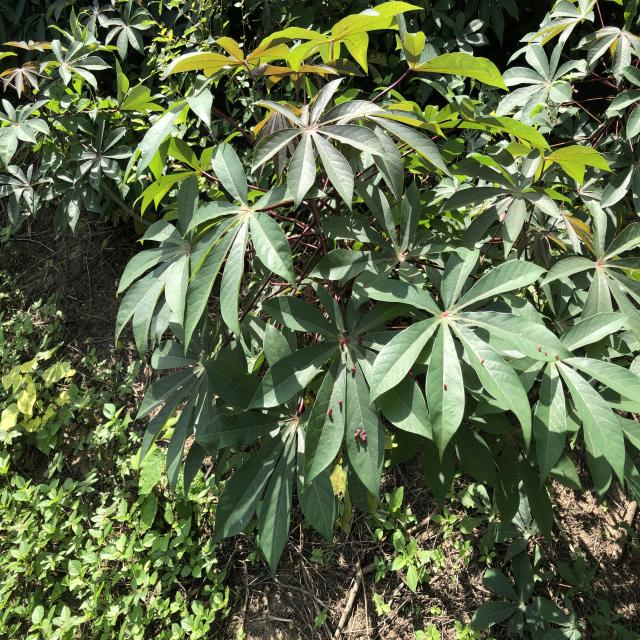Mosca: (528, 339, 566, 363), (349, 420, 376, 453), (323, 390, 346, 420), (343, 358, 363, 379), (434, 379, 451, 401), (332, 332, 348, 354), (352, 333, 371, 348), (471, 353, 484, 371)
